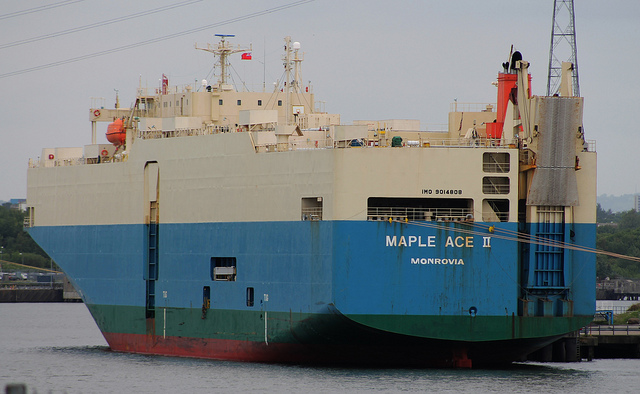PCC: (23, 44, 594, 372)
